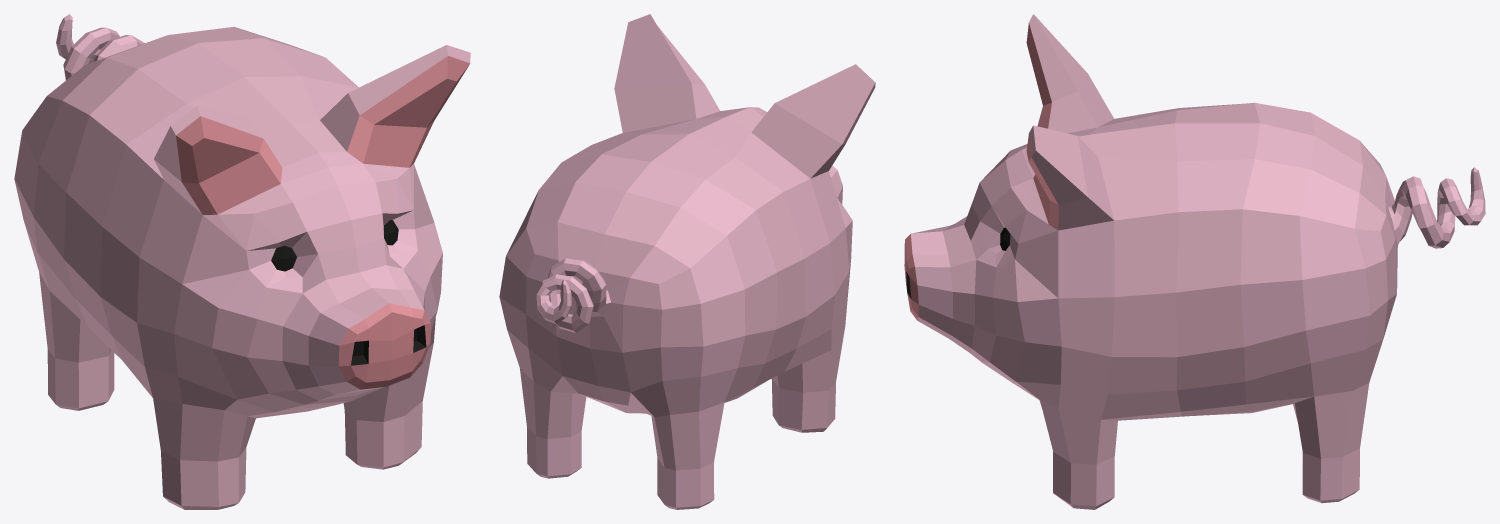
Rendered from lowpoly_origami_pig.glb.
The picture shows the model from 3 angles, left to right: view 1: azimuth 30°, elevation 25°; view 2: azimuth 150°, elevation 25°; view 3: azimuth 270°, elevation 25°; orthographic projection. The views are drawn at different scales.
Parts seen in each view (by area): view 1: Cube; view 2: Cube; view 3: Cube.
Boxes of the visible parts, box(x1,y1,x2,y2) form: Cube: box(14, 14, 470, 509); Cube: box(499, 14, 875, 509); Cube: box(904, 14, 1485, 509).
Bounding box in the file's own units: 2.12 × 2.86 × 3.89.
